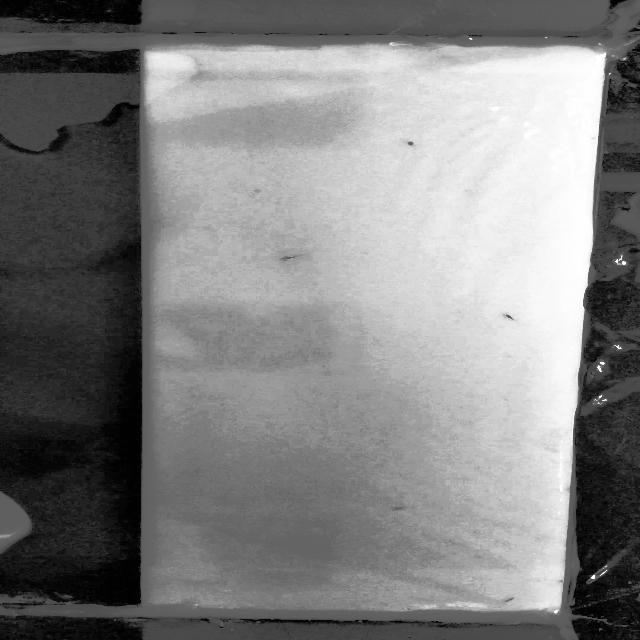shrimp: (279, 248, 310, 266), (402, 138, 428, 154), (502, 311, 524, 326), (387, 504, 409, 516), (501, 591, 517, 606)
